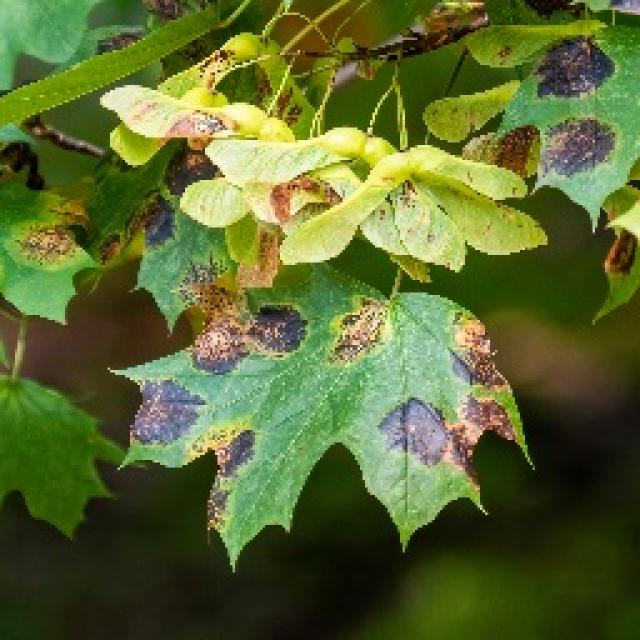Tar_Spot: (107, 258, 535, 570), (482, 2, 638, 232)
